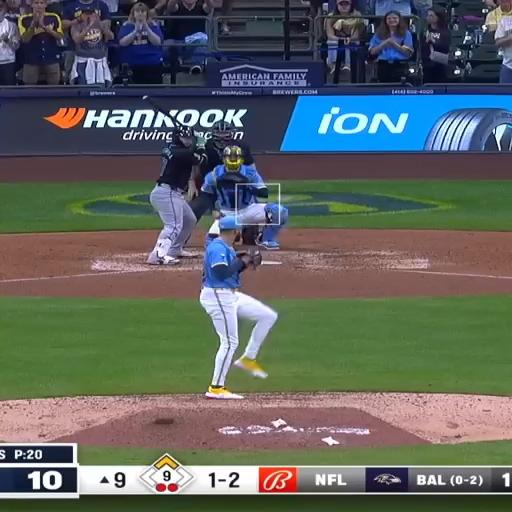bat: (142, 96, 184, 126), (142, 96, 183, 126)
